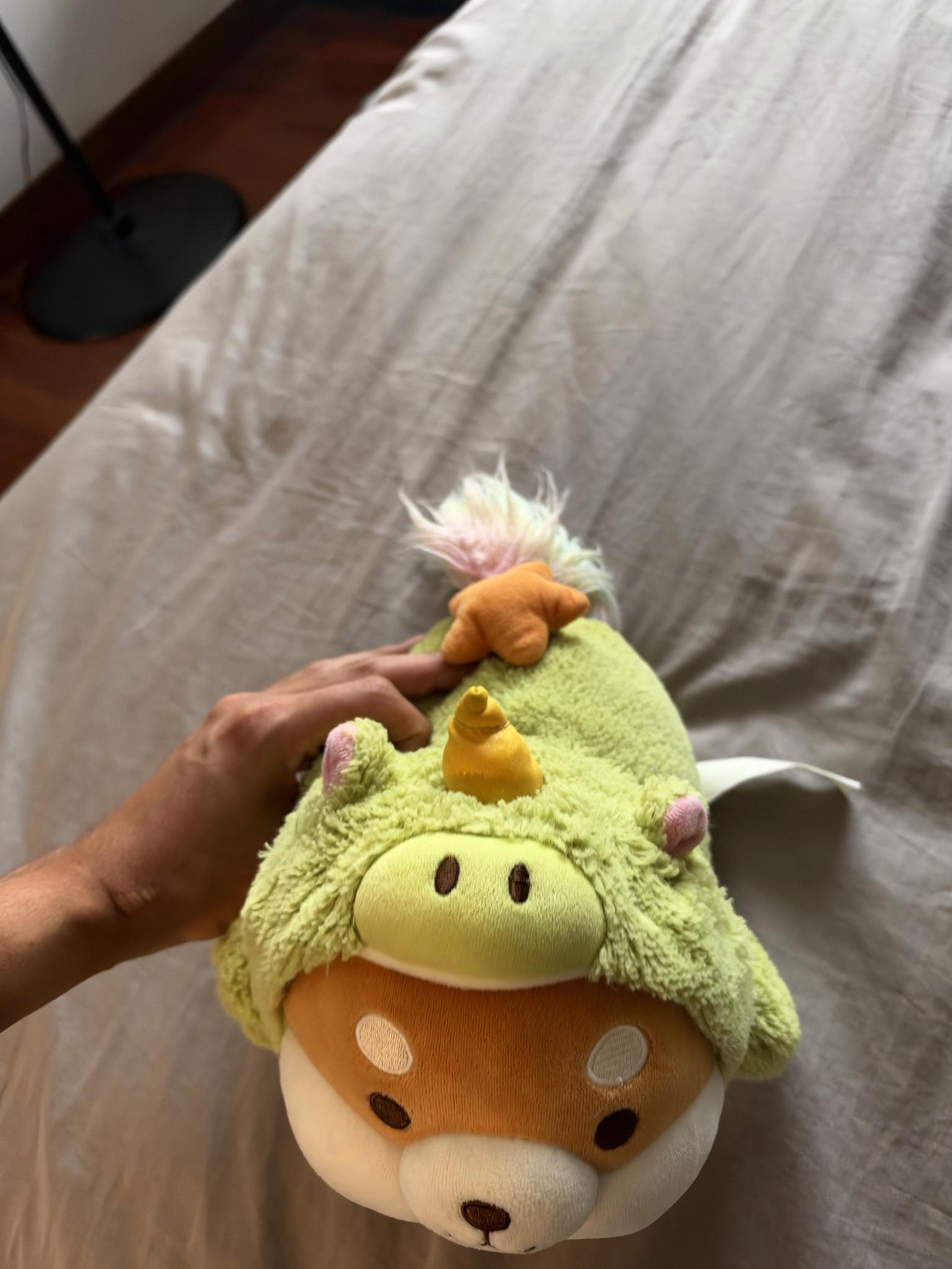peluche_martin: (209, 455, 806, 1255)
